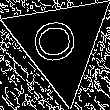O_E: (33, 17, 87, 68)
